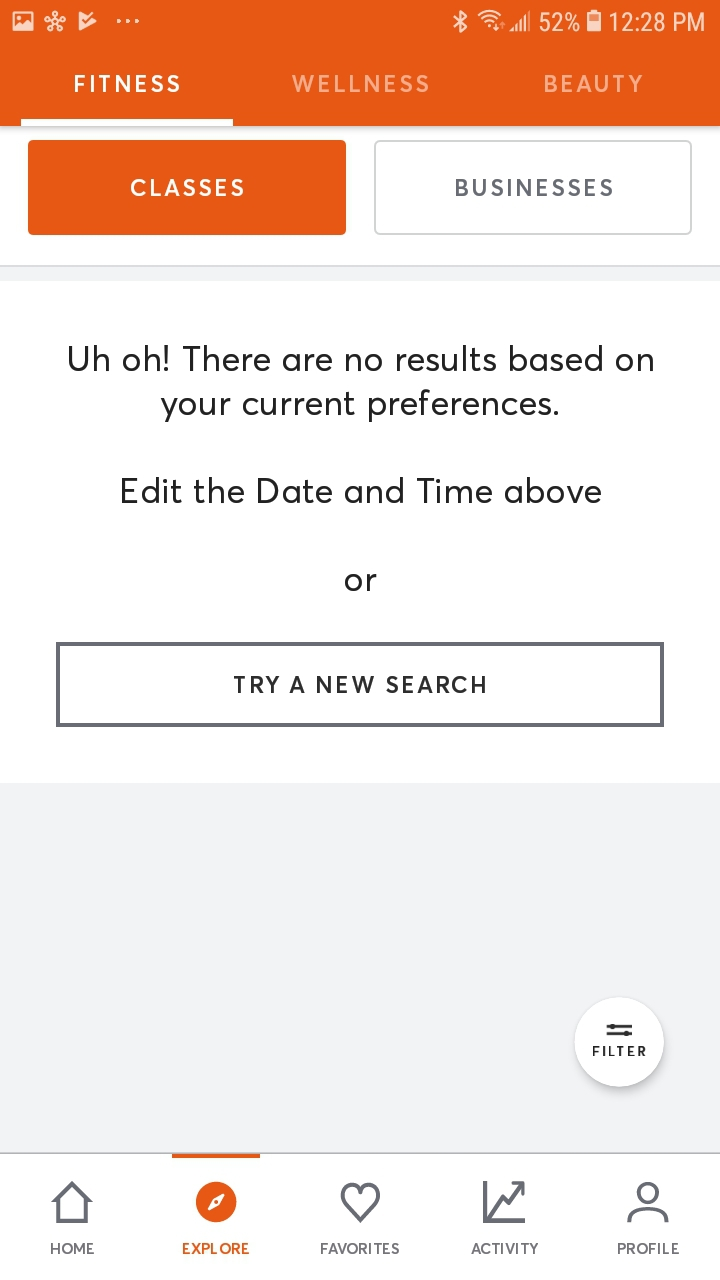Icon: (52, 1181, 94, 1224), (483, 1180, 525, 1223), (197, 1182, 238, 1223), (341, 1183, 381, 1224), (628, 1182, 669, 1222)
Text: (69, 345, 654, 424), (121, 476, 602, 505), (292, 75, 429, 94), (75, 75, 181, 94), (545, 75, 644, 94), (321, 1242, 400, 1254), (617, 1242, 679, 1255), (472, 1243, 539, 1255), (183, 1243, 250, 1255), (345, 573, 378, 592), (51, 1242, 95, 1254)
TextButton: (56, 641, 665, 728), (374, 140, 692, 236), (29, 140, 347, 236), (574, 997, 664, 1087)
UpperTaskBar: (1, 1, 720, 34)
